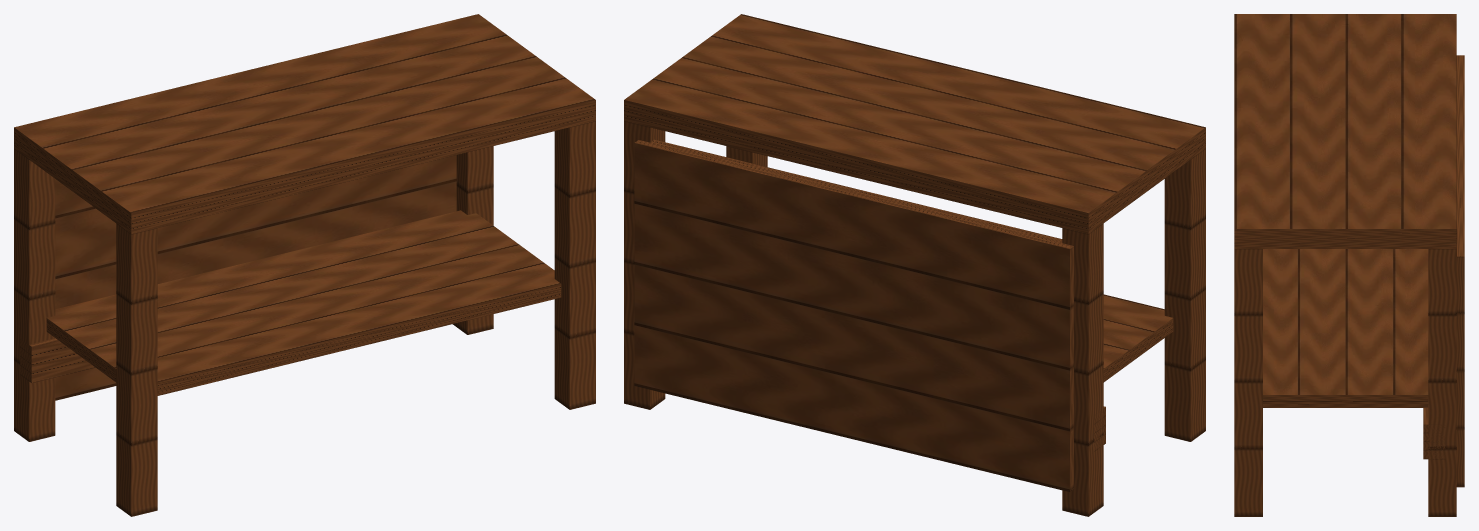
Rendered from fortified-compound-expansion-inspection-counter-e4119c3c__27132.glb.
3 views of the same model, side by side, from view 1: azimuth 30°, elevation 25°; view 2: azimuth 150°, elevation 25°; view 3: azimuth 270°, elevation 25° (orthographic). The views are drawn at different scales.
Parts seen in each view (by area): view 1: inspection-counter; view 2: inspection-counter; view 3: inspection-counter.
Boxes of the visible parts, x1,y1,x2,y2 form: inspection-counter: [14, 14, 595, 516]; inspection-counter: [624, 14, 1205, 516]; inspection-counter: [1234, 14, 1464, 516].
Size of the model in its own units: 1.6 by 0.9999 by 0.7251.
Materials: 1 (1 with a texture image).
